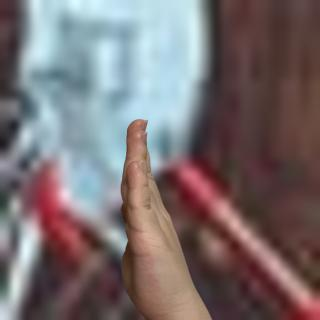RIGHT: (110, 114, 220, 320)
